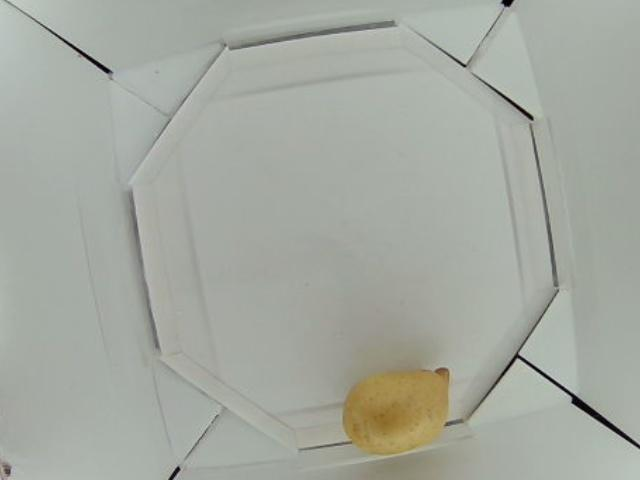Potato: (342, 363, 454, 462)
